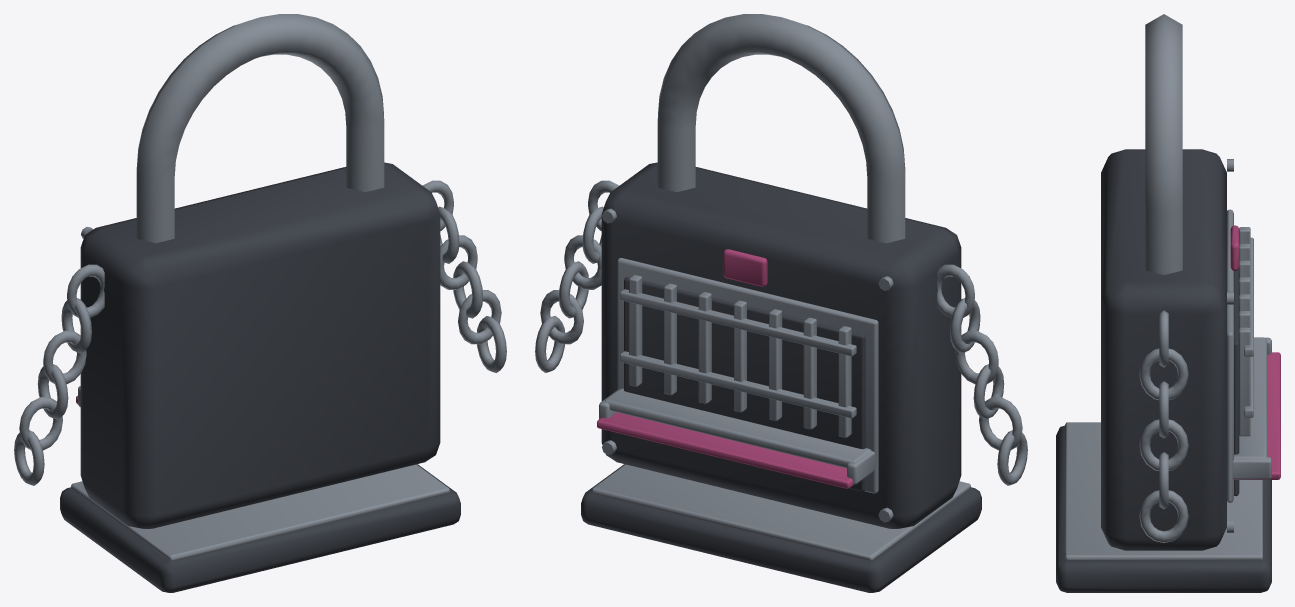
Rendered from spout-keep.glb.
3 renders of one model, left to right at view 1: azimuth 30°, elevation 25°; view 2: azimuth 150°, elevation 25°; view 3: azimuth 270°, elevation 25°, orthographic.
Visible parts, largest first — view 1: keep_iron, keep_edges; view 2: keep_iron, keep_edges, keep_seal; view 3: keep_iron, keep_edges, keep_seal.
Part boxes in pixels (left/top/right/bottom): keep_iron: left=60, top=162, right=460, bottom=592; keep_edges: left=14, top=14, right=506, bottom=560; keep_iron: left=581, top=162, right=981, bottom=592; keep_edges: left=535, top=14, right=1027, bottom=560; keep_seal: left=597, top=249, right=853, bottom=488; keep_iron: left=1056, top=149, right=1271, bottom=592; keep_edges: left=1065, top=14, right=1271, bottom=559; keep_seal: left=1230, top=225, right=1280, bottom=479.
Size of the model in its own units: 12.2 by 12.23 by 5.
